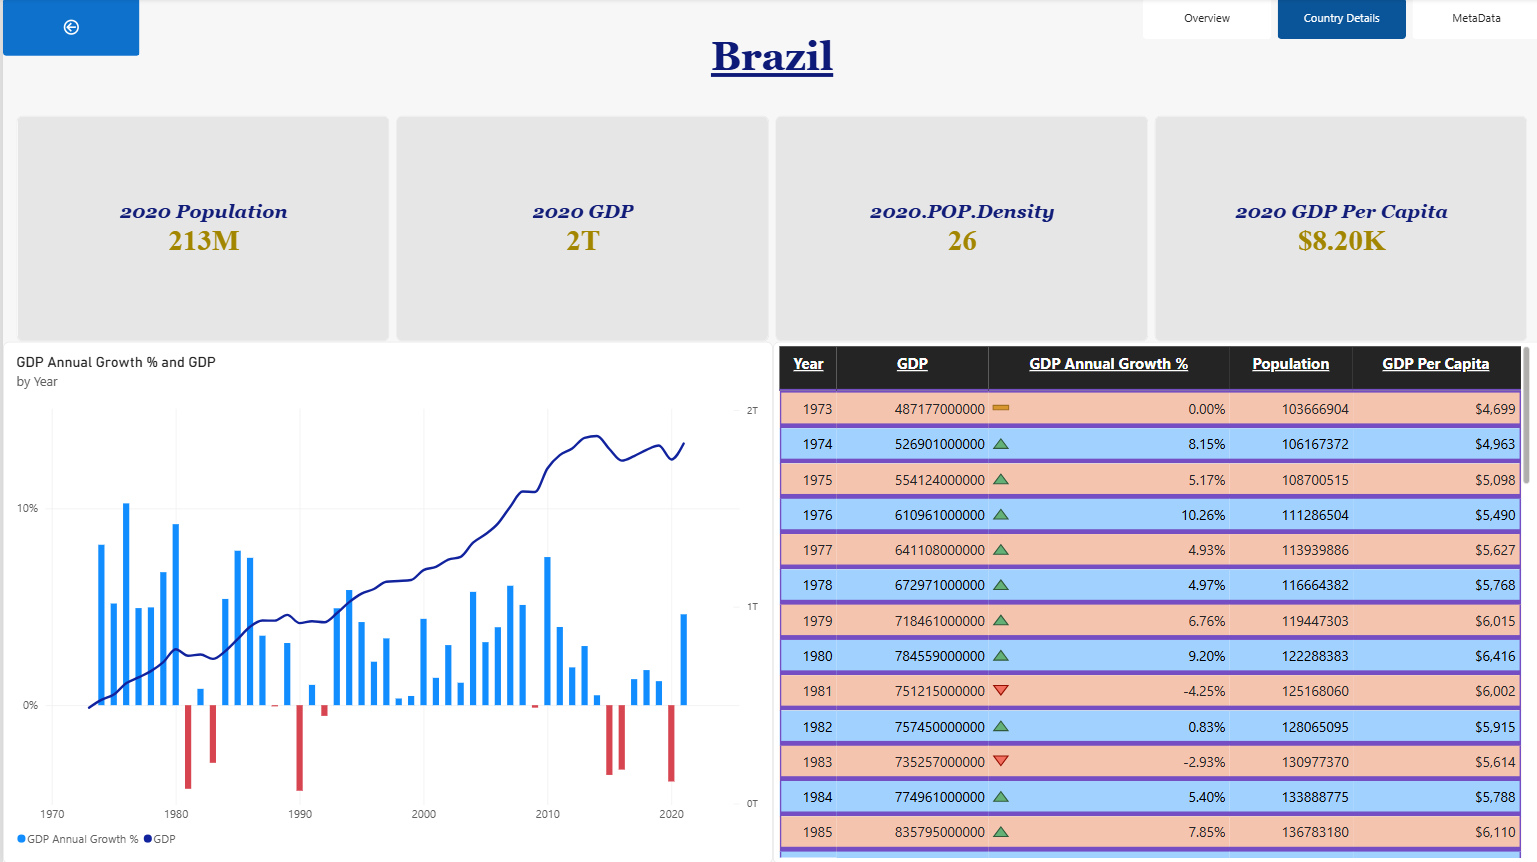

The page's visual inventory and layout, read from the dashboard file:
{"tool":"powerbi","page":{"name":"Country Details","canvas":[1920,1080],"ordinal":1},"visuals":[{"type":"actionButton","box":[0,0,170.4,72.2],"z":0},{"type":"tableEx","fields":{"Values":["Indicators.Year","_Measures.GDP","_Measures.GDP Annual Growth %","_Measures.Population","_Measures.GDP Per Capita"]},"box":[960,428.9,960,651.1],"z":1000},{"type":"lineClusteredColumnComboChart","fields":{"Category":["Indicators.Year"],"Y":["_Measures.GDP Annual Growth %"],"Y2":["_Measures.GDP"]},"box":[0,428.9,960,651.1],"z":2000},{"type":"cardVisual","fields":{"Data":["Min(Countries.Country Name)"]},"box":[722.2,0,475.9,146.3],"z":3000},{"type":"cardVisual","fields":{"Data":["_Measures.2020 Population","_Measures.2020 GDP","_Measures.2020.POP.Density","_Measures.2020 GDP Per Capita"]},"box":[0,146.7,1920,282.2],"z":4000},{"type":"pageNavigator","box":[1422.2,0,497.8,51.1],"z":4001}]}

Visuals, with their boxes in screenshot pixels (x1, y1, x2, y2), scaled from the page's 1920x1080 canvas onto the 1537x862 screenshot:
actionButton: detection(0, 0, 136, 58)
tableEx - Indicators.Year x _Measures.GDP: detection(768, 342, 1536, 861)
lineClusteredColumnComboChart - Indicators.Year x _Measures.GDP Annual Growth %: detection(0, 342, 768, 861)
cardVisual - Min(Countries.Country Name): detection(578, 0, 959, 117)
cardVisual - _Measures.2020 Population x _Measures.2020 GDP: detection(0, 117, 1536, 342)
pageNavigator: detection(1139, 0, 1536, 41)
